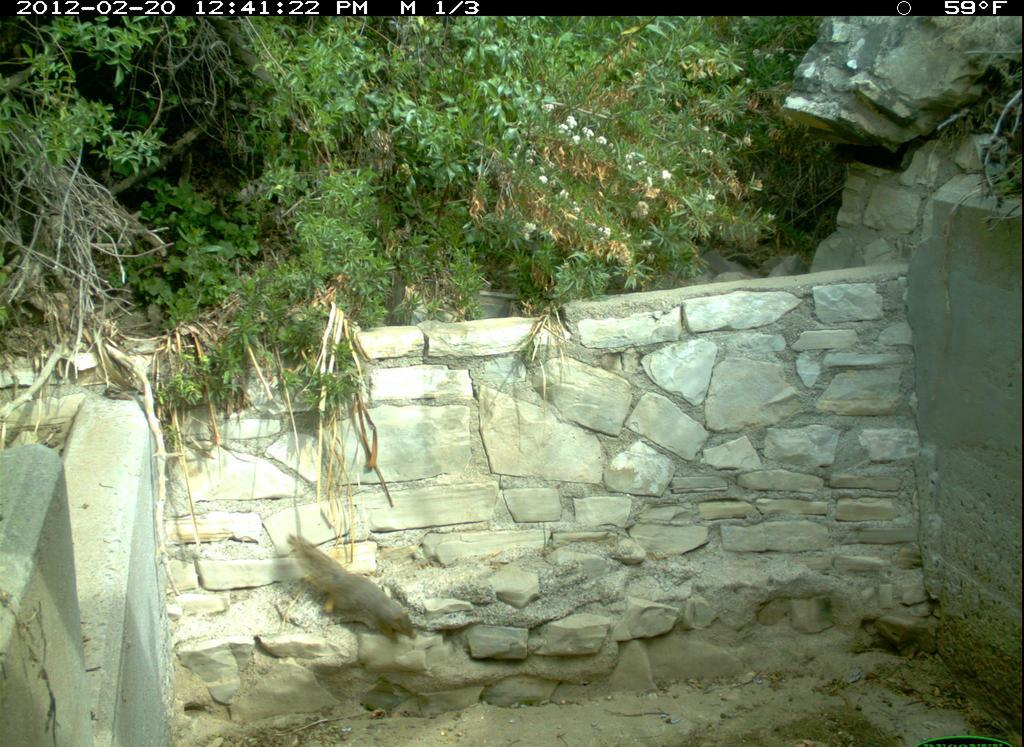squirrel: (283, 533, 422, 660)
